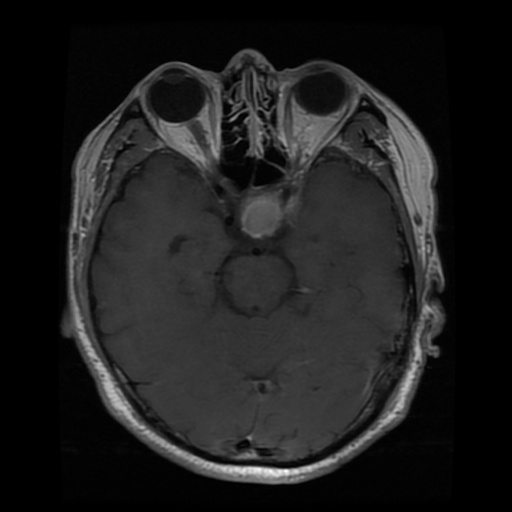pituitary: (237, 187, 284, 238)
